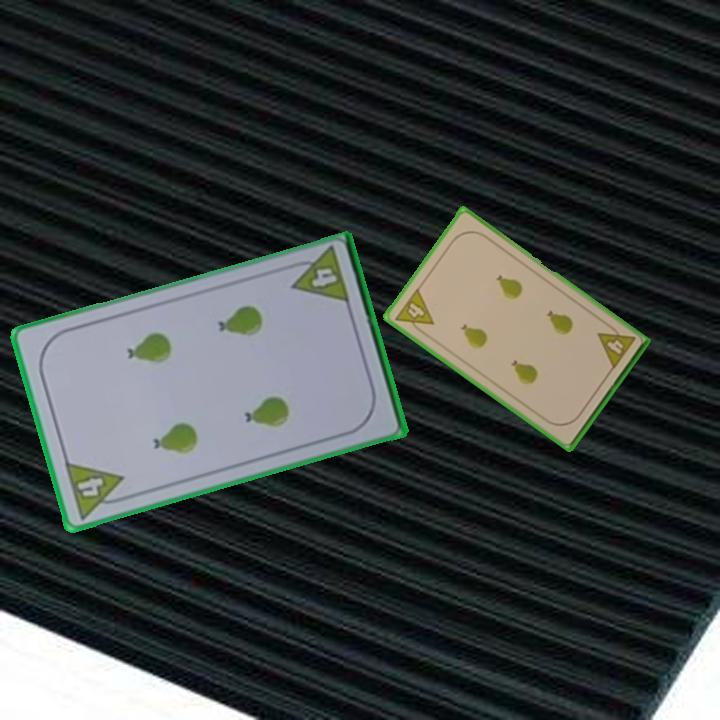4p: (61, 458, 132, 522), (284, 244, 353, 308), (391, 284, 437, 338), (594, 319, 638, 372)
